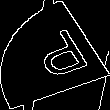P_SE: (19, 24, 91, 86)
